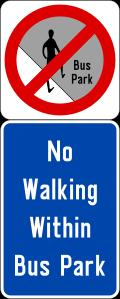Pedestrian Prohibited: (3, 7, 109, 207)
